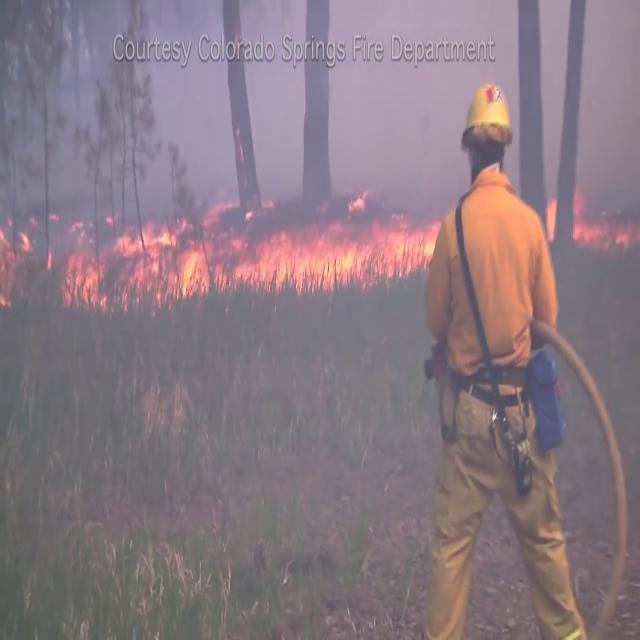Fire: (64, 174, 229, 315), (237, 207, 442, 294), (547, 188, 599, 245)
